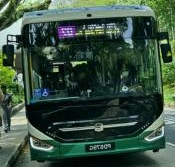bus: (56, 25, 75, 39)
